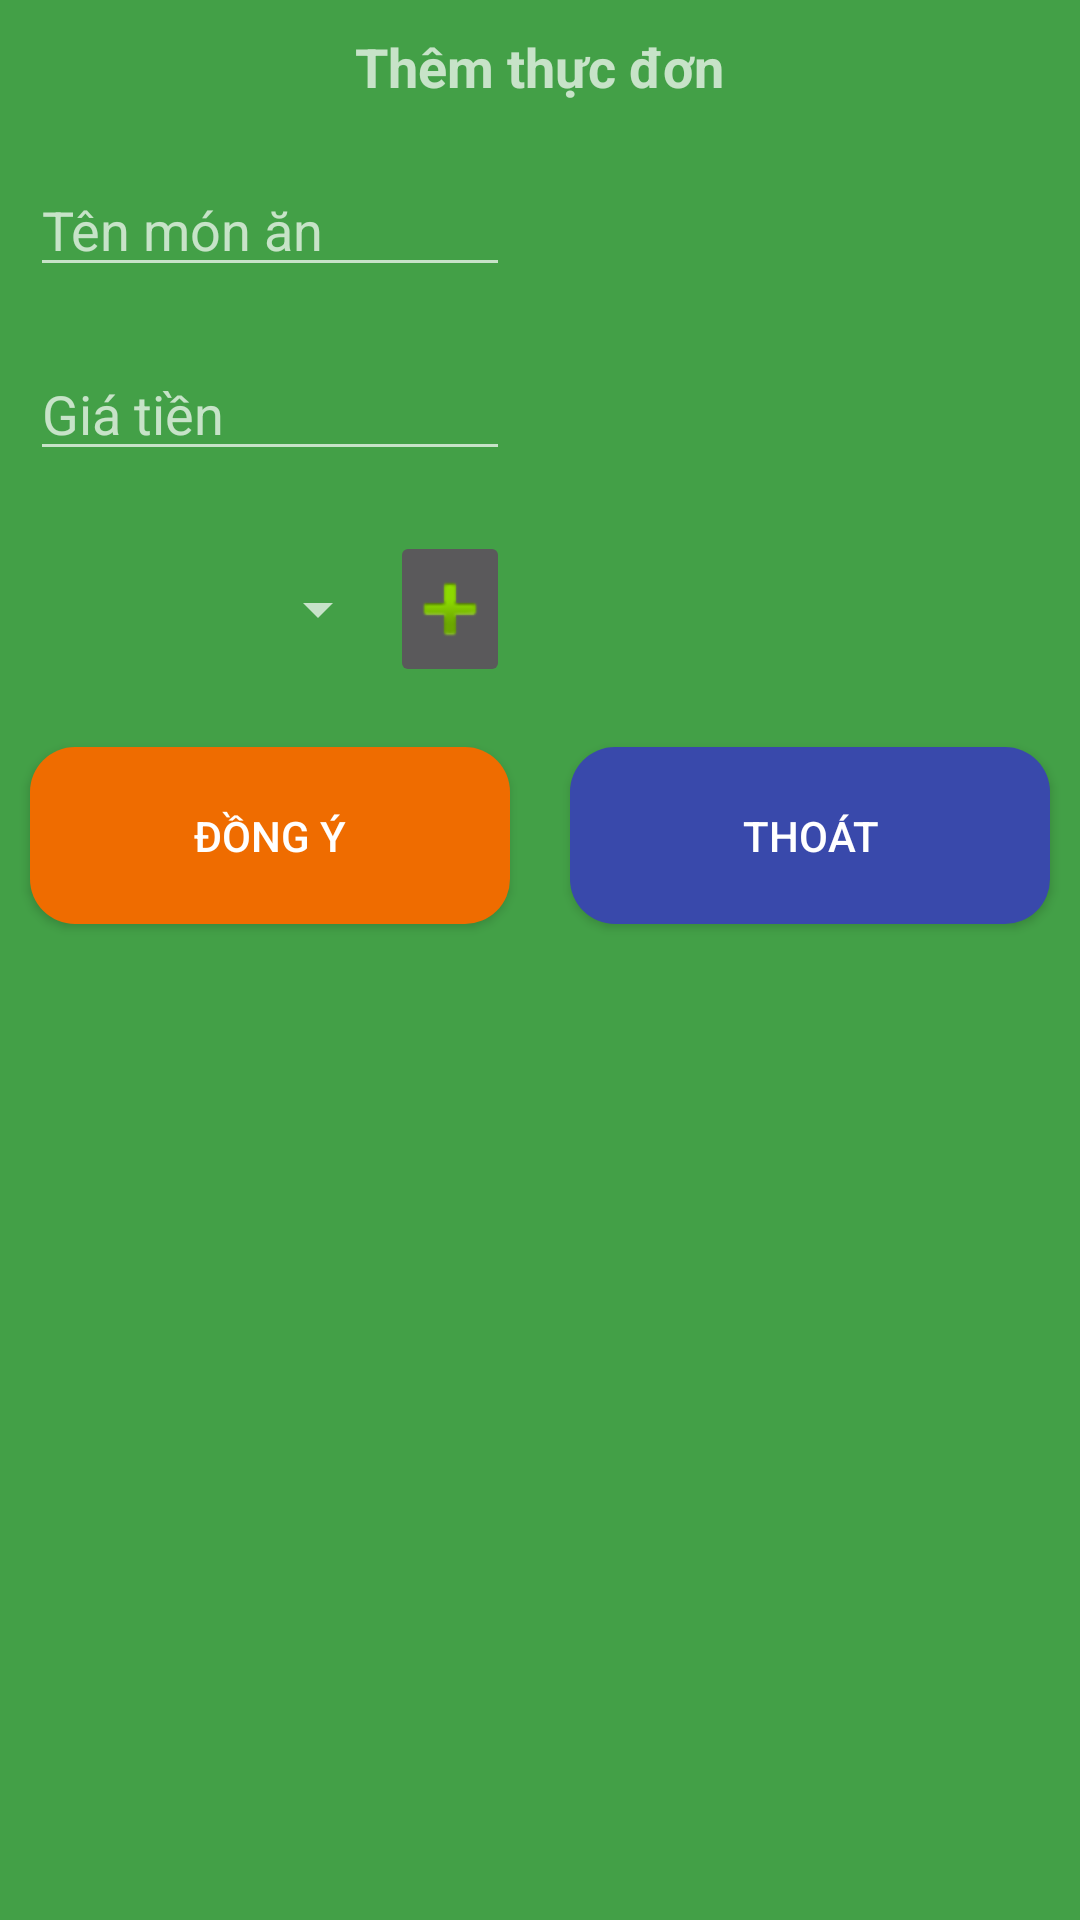

Where icons sit on this 1080px×1920px app screen, as bbox=(x1, y1, x2, y2):
add: bbox=(402, 549, 498, 669)
